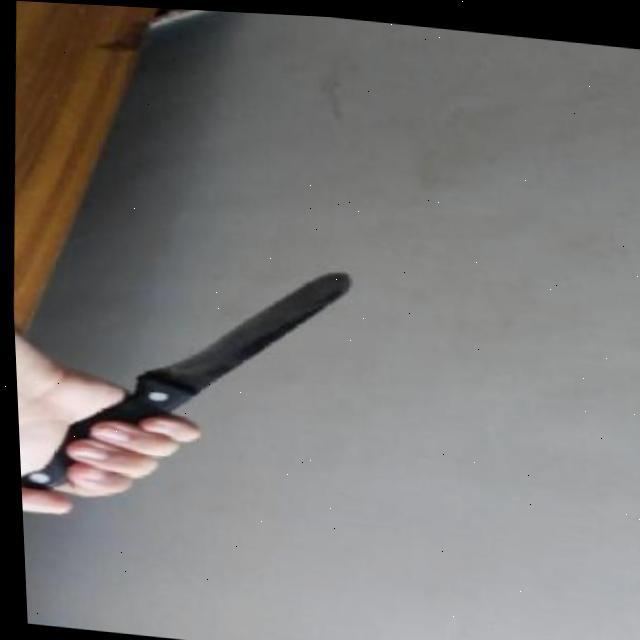knife: (9, 240, 356, 518)
